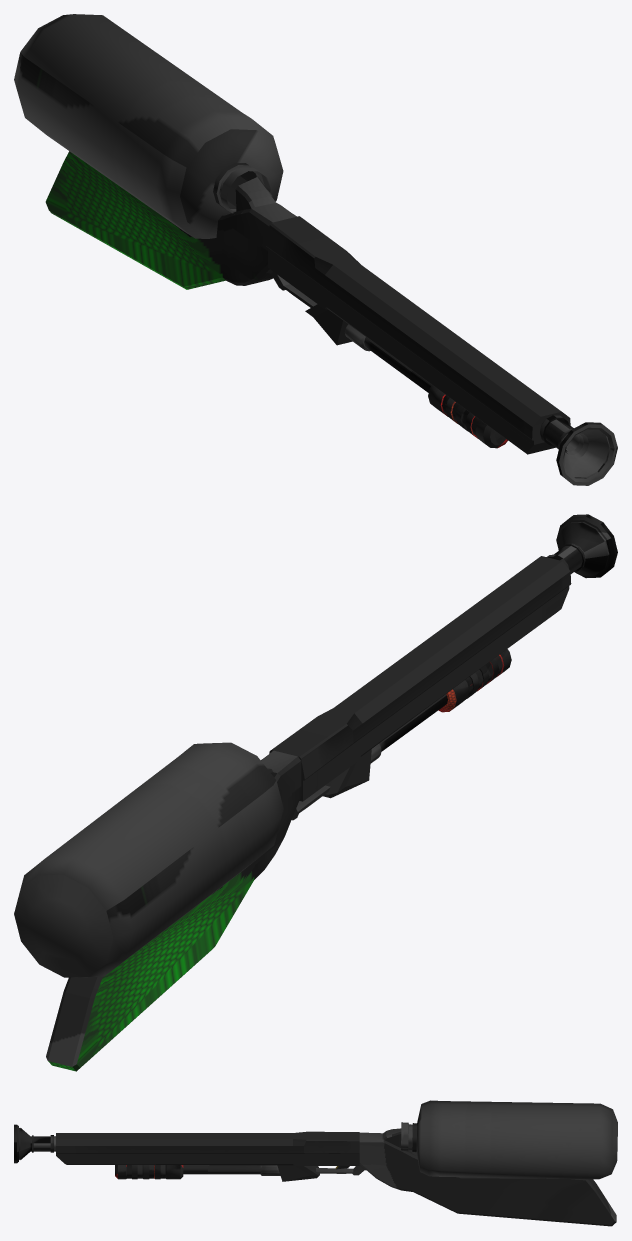
File: shotty optimized.fbx
The picture shows the model from 3 angles, top to bottom: view 1: azimuth 30°, elevation 25°; view 2: azimuth 150°, elevation 25°; view 3: azimuth 270°, elevation 25°; orthographic projection. The views are drawn at different scales.
Parts seen in each view (by area): view 1: Bottle, Tube, Body, Muzzle, Pump, Pump2; view 2: Bottle, Tube, Body, Muzzle, Pump, Pump2; view 3: Bottle, Body, Tube, Pump, Pump2, Muzzle.
Part boxes in pixels (x1,y1,x2,y2): Bottle: (14, 14, 283, 238); Tube: (266, 216, 570, 454); Body: (45, 151, 317, 307); Muzzle: (540, 415, 617, 485); Pump: (428, 385, 507, 448); Pump2: (344, 324, 431, 392); Bottle: (14, 742, 283, 977); Tube: (269, 556, 571, 801); Body: (46, 750, 330, 1071); Muzzle: (547, 514, 617, 578); Pump: (438, 649, 511, 712); Pump2: (370, 694, 447, 763); Bottle: (401, 1100, 617, 1179); Body: (316, 1128, 616, 1226); Tube: (56, 1131, 359, 1181); Pump: (115, 1165, 183, 1179); Pump2: (183, 1165, 280, 1175); Muzzle: (14, 1124, 55, 1163).
Size of the model in its own units: 232 by 401 by 1841.
